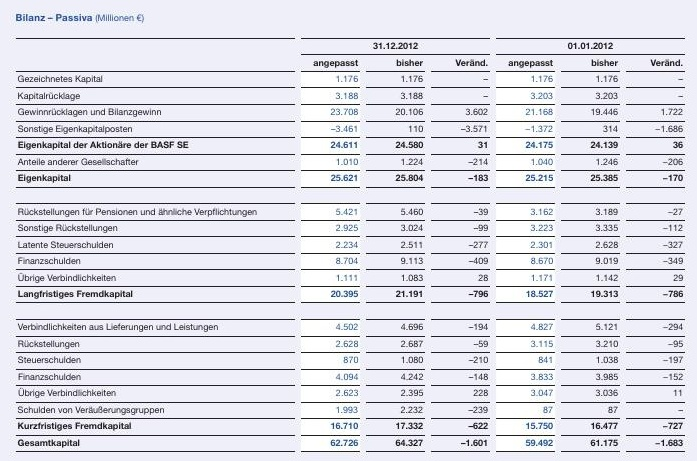table: (0, 0, 697, 461)
